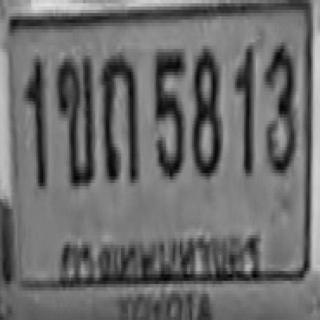A02: (54, 54, 92, 185)
A22: (100, 52, 138, 180)
N01: (23, 55, 44, 186), (234, 44, 252, 171)
N03: (263, 42, 294, 170)
N05: (151, 48, 183, 178)
N08: (190, 46, 220, 173)
P04: (58, 221, 265, 288)
